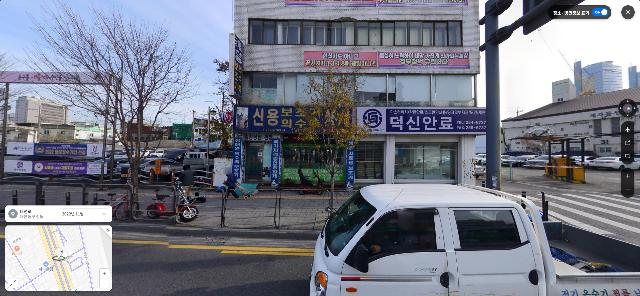ginkgo: (292, 58, 369, 215)
other: (0, 0, 209, 221)
